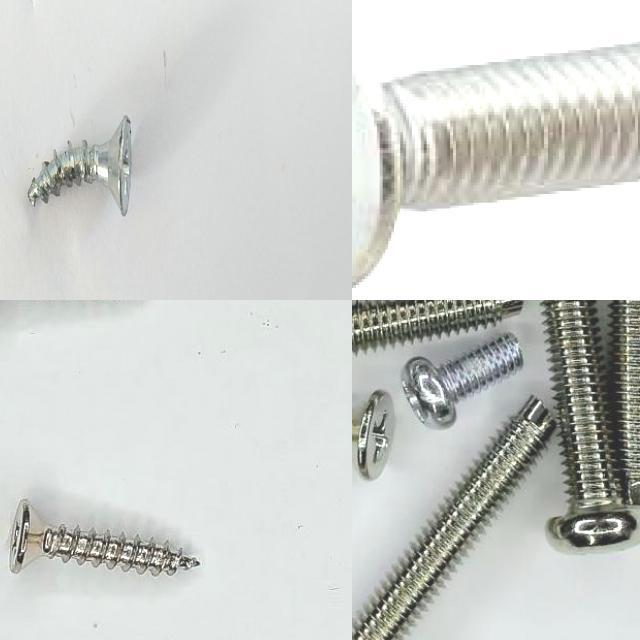Screw: (352, 41, 640, 287), (352, 396, 556, 640), (541, 300, 638, 549), (9, 500, 201, 577), (402, 335, 523, 429), (28, 115, 132, 215), (352, 300, 523, 352), (611, 300, 640, 507), (352, 392, 394, 480)
